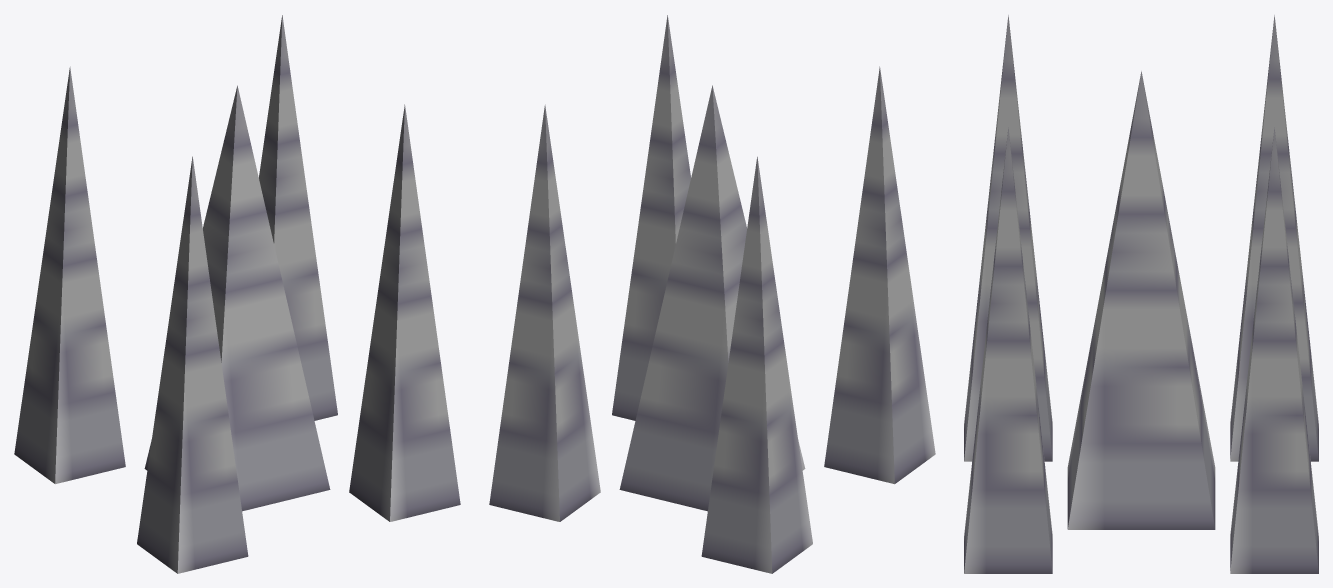
File: GroundMovingSpikes.obj
3 views of the same model, side by side, from view 1: azimuth 30°, elevation 25°; view 2: azimuth 150°, elevation 25°; view 3: azimuth 270°, elevation 25° (orthographic). The views are drawn at different scales.
Visible parts, largest first — view 1: Spike1.001, Spike1.004, Spike1.006, Spike1.005, Spike1; view 2: Spike1.001, Spike1, Spike1.005, Spike1.006, Spike1.004; view 3: Spike1.001, Spike1, Spike1.004, Spike1.005, Spike1.006.
Boxes of the visible parts, x1,y1,x2,y2 form: Spike1.001: [144, 85, 330, 511]; Spike1.004: [349, 104, 460, 521]; Spike1.006: [14, 66, 125, 484]; Spike1.005: [137, 156, 248, 573]; Spike1: [259, 15, 337, 420]; Spike1.001: [619, 85, 805, 511]; Spike1: [489, 104, 600, 521]; Spike1.005: [824, 66, 935, 484]; Spike1.006: [701, 156, 812, 573]; Spike1.004: [612, 15, 690, 420]; Spike1.001: [1067, 71, 1215, 529]; Spike1: [1230, 127, 1318, 573]; Spike1.004: [964, 127, 1052, 573]; Spike1.005: [964, 15, 1052, 461]; Spike1.006: [1230, 15, 1318, 461].
Bounding box in the file's own units: 1.2 × 1.6 × 1.2.
